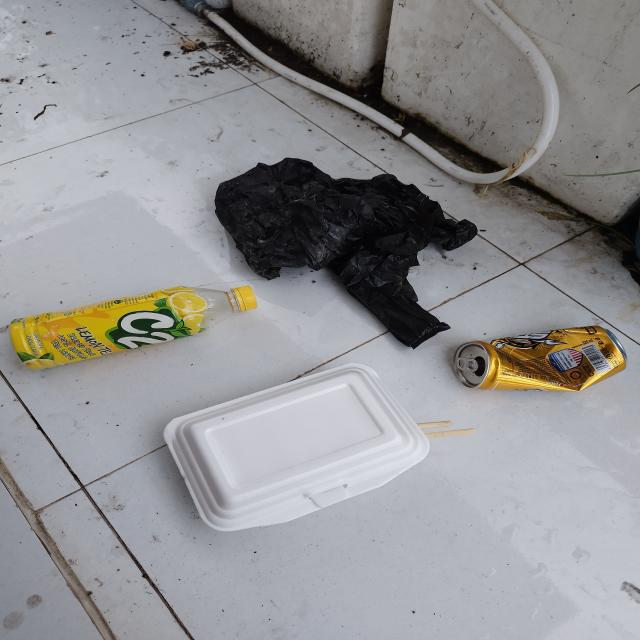bag: (212, 157, 478, 349)
bottle: (8, 286, 262, 370)
can: (450, 324, 629, 396)
foam box: (162, 362, 433, 532)
